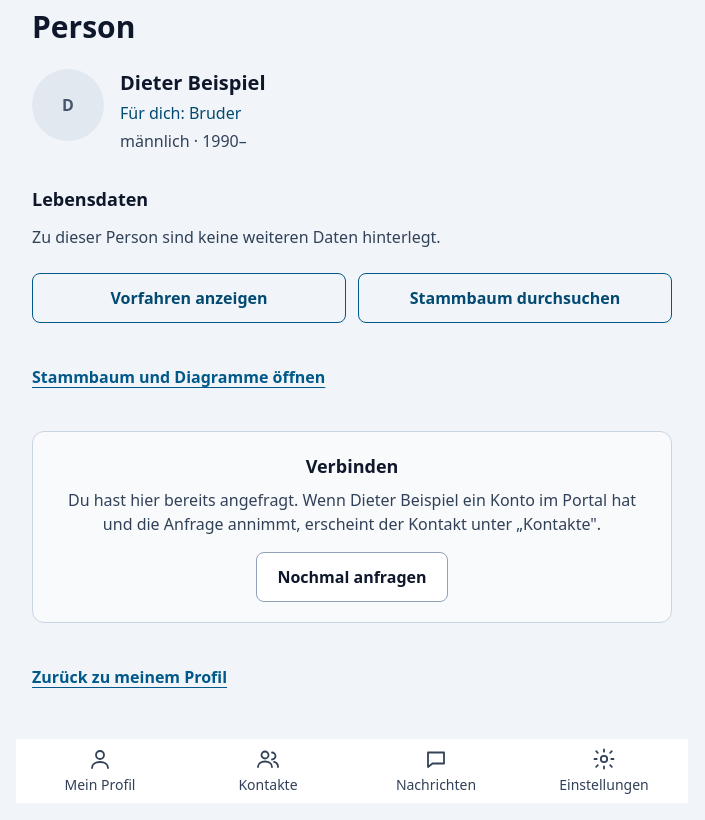
Test: connecting from a person’s page › lets the member ask again
Click the button "Nochmal anfragen": (352, 577) [256,552,448,602]
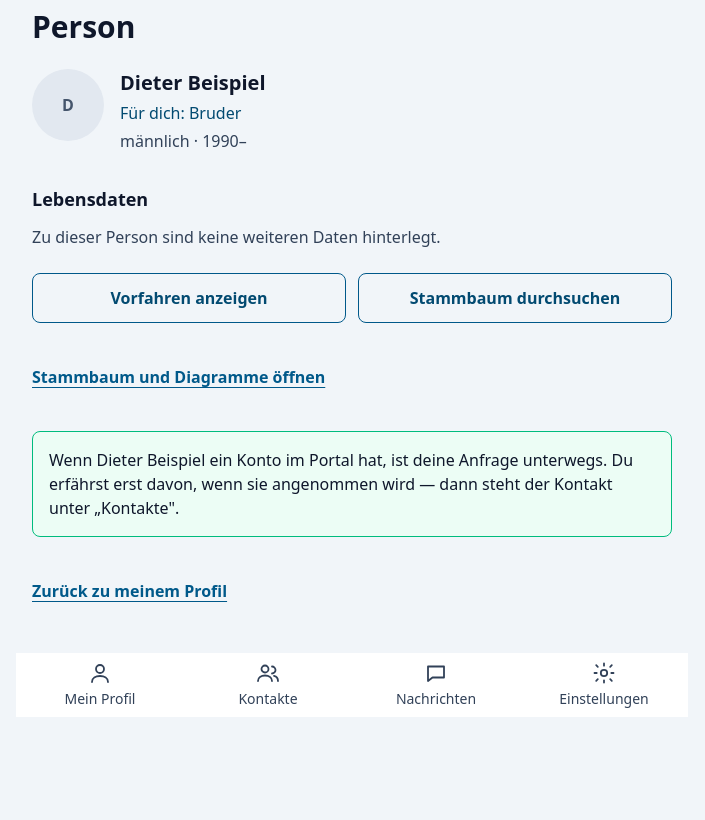
Expected: the text "Wenn Dieter Beispiel ein Konto im Portal hat" is shown, [49,449,633,519]
